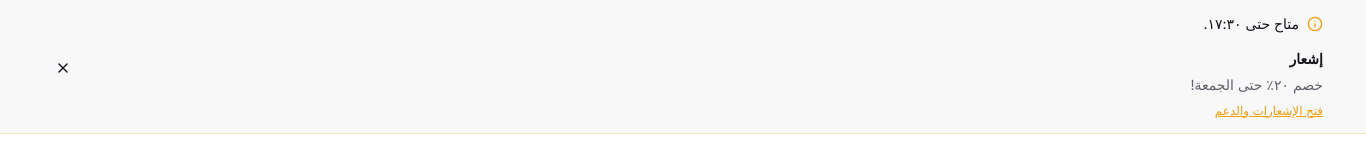
it: published customer notice reader › shows exact Arabic text and keeps maintenance visible after dismissing an announcement
The image size is (1366, 160).
Expected: the text "خصم ٢٠٪ حتى الجمعة!" is shown, [1190,74,1323,94]
Expected: the text "متاح حتى ١٧:٣٠." is shown, [1203,12,1299,36]
Click the button named "إخفاء إشعار" at (63, 68), box [43,48,83,88]
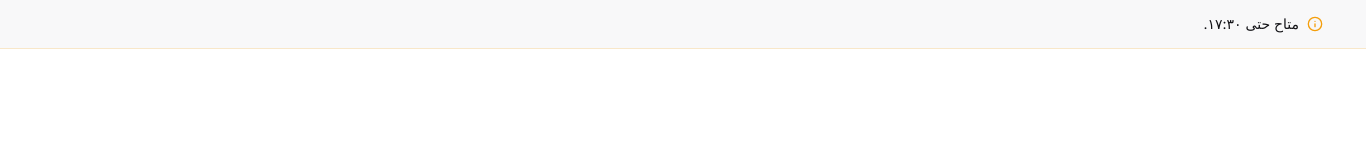
Expected: the text "متاح حتى ١٧:٣٠." is shown, [1203,12,1299,36]
Expected: the text "خصم ٢٠٪ حتى الجمعة!" is gone
